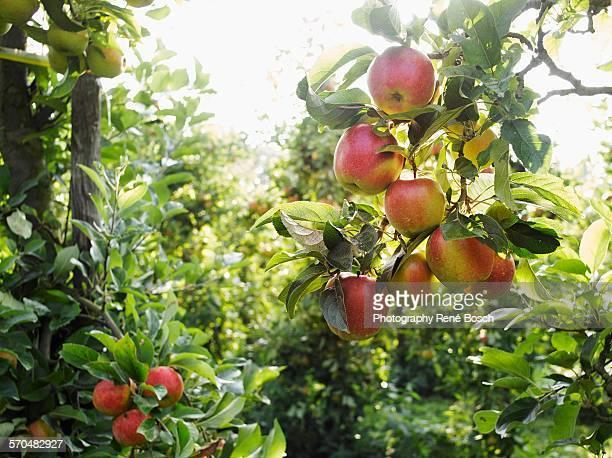apple: (332, 121, 400, 193), (365, 47, 437, 114), (325, 270, 387, 340), (425, 222, 496, 283), (383, 174, 445, 234), (85, 28, 125, 77), (145, 366, 184, 405), (111, 407, 149, 445), (93, 380, 131, 415)
